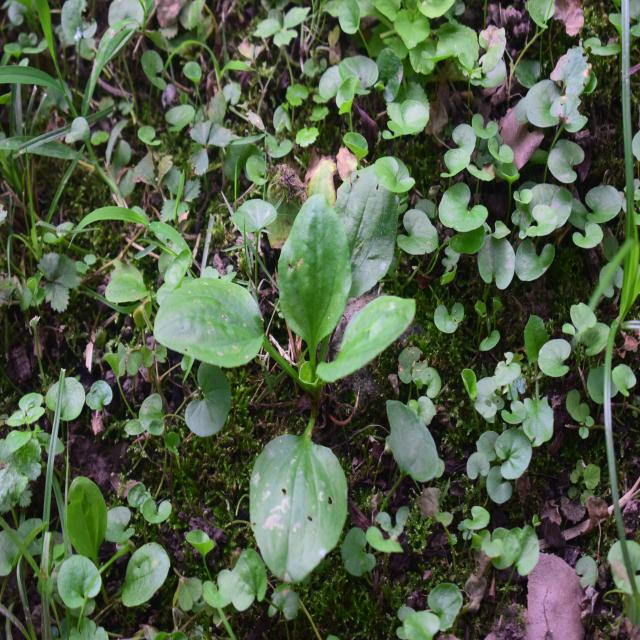plantain: (175, 182, 434, 538)
